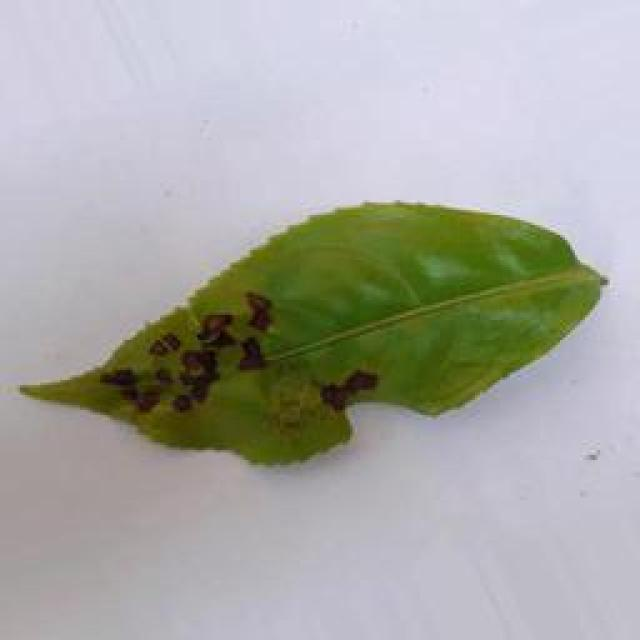Helopeltis: (26, 187, 608, 470)
